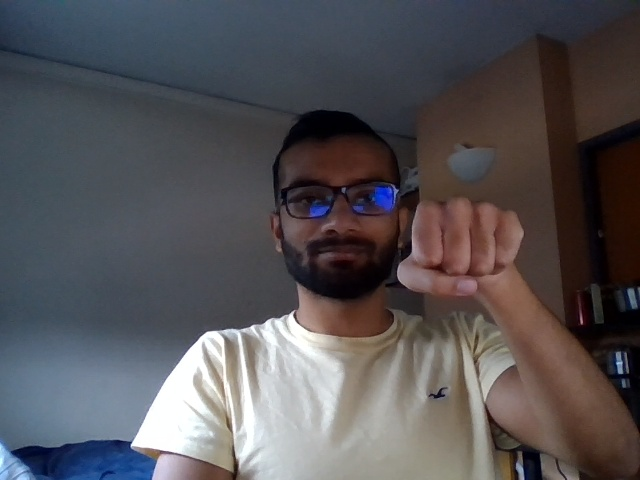Yes: (390, 188, 536, 302)
